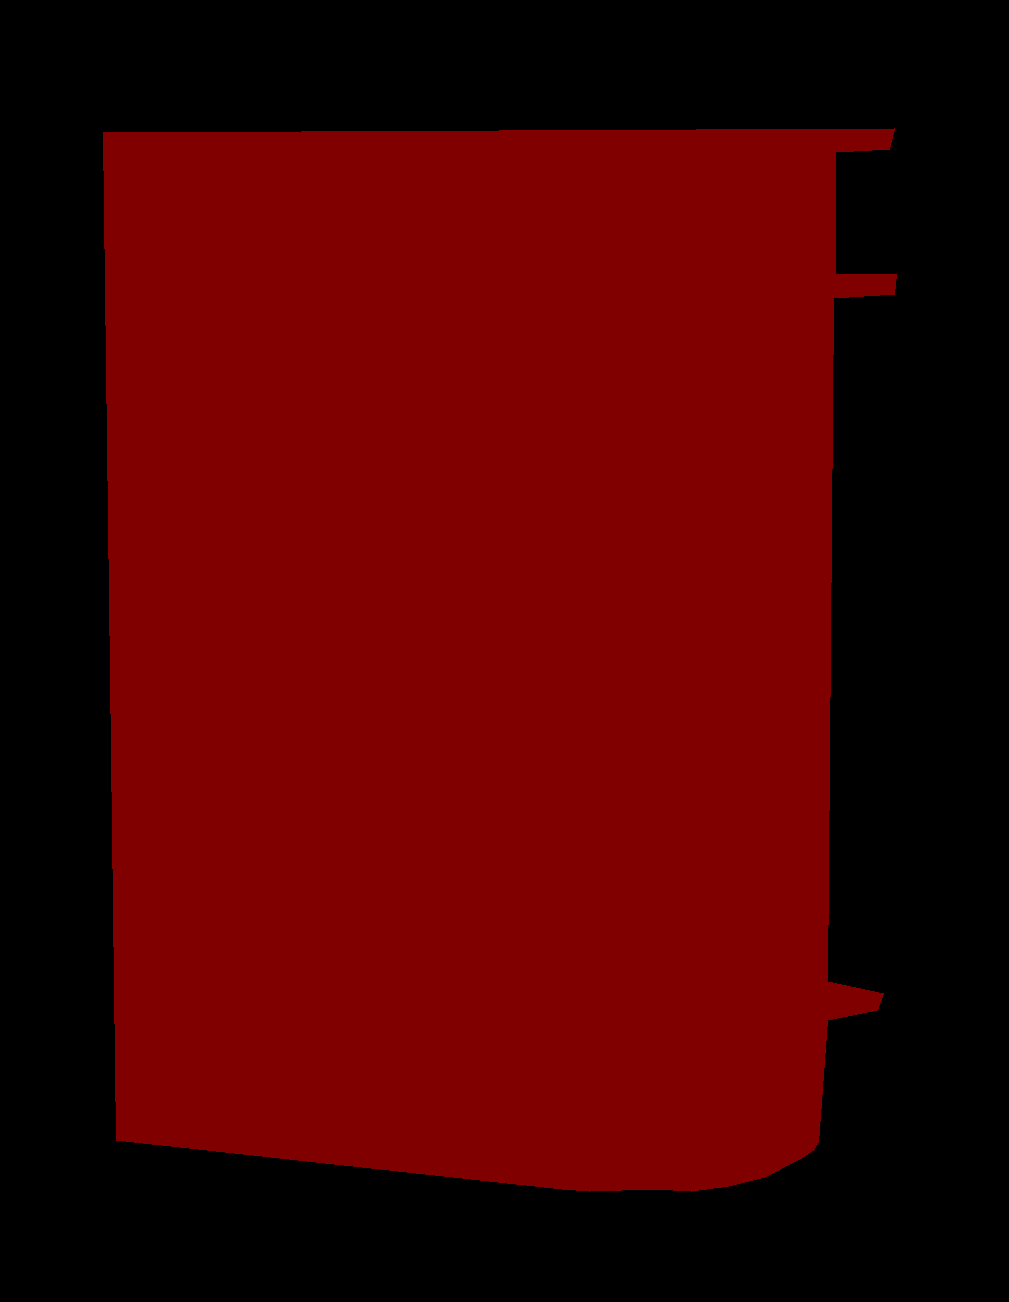sign: (102, 128, 896, 1191)
